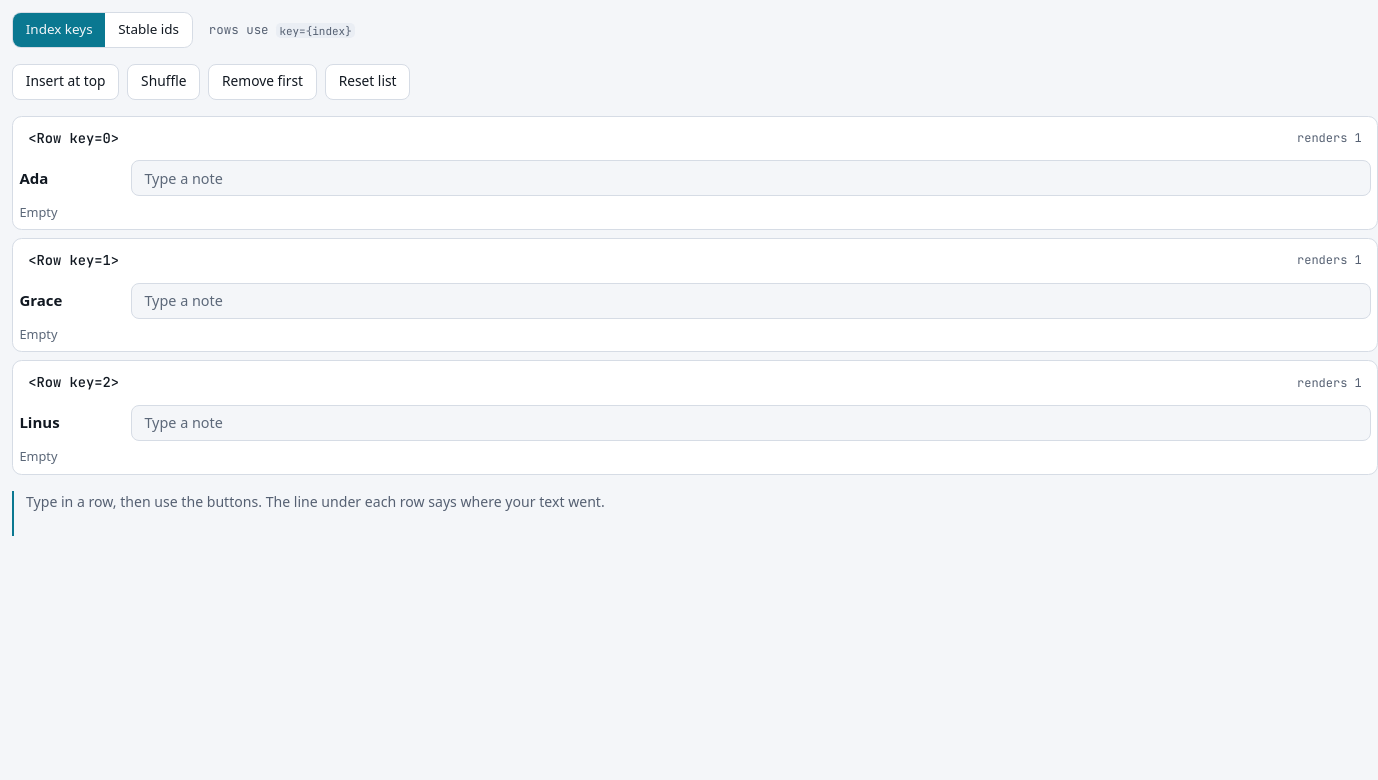
Test case: key-chaos lab › with index keys, text typed in the first row stays on top after an insert
Type "alpha" into the field with placeholder "Type a note" next to "Ada".
click(751, 178); type("alpha")  # box 131,160 -> 1371,196
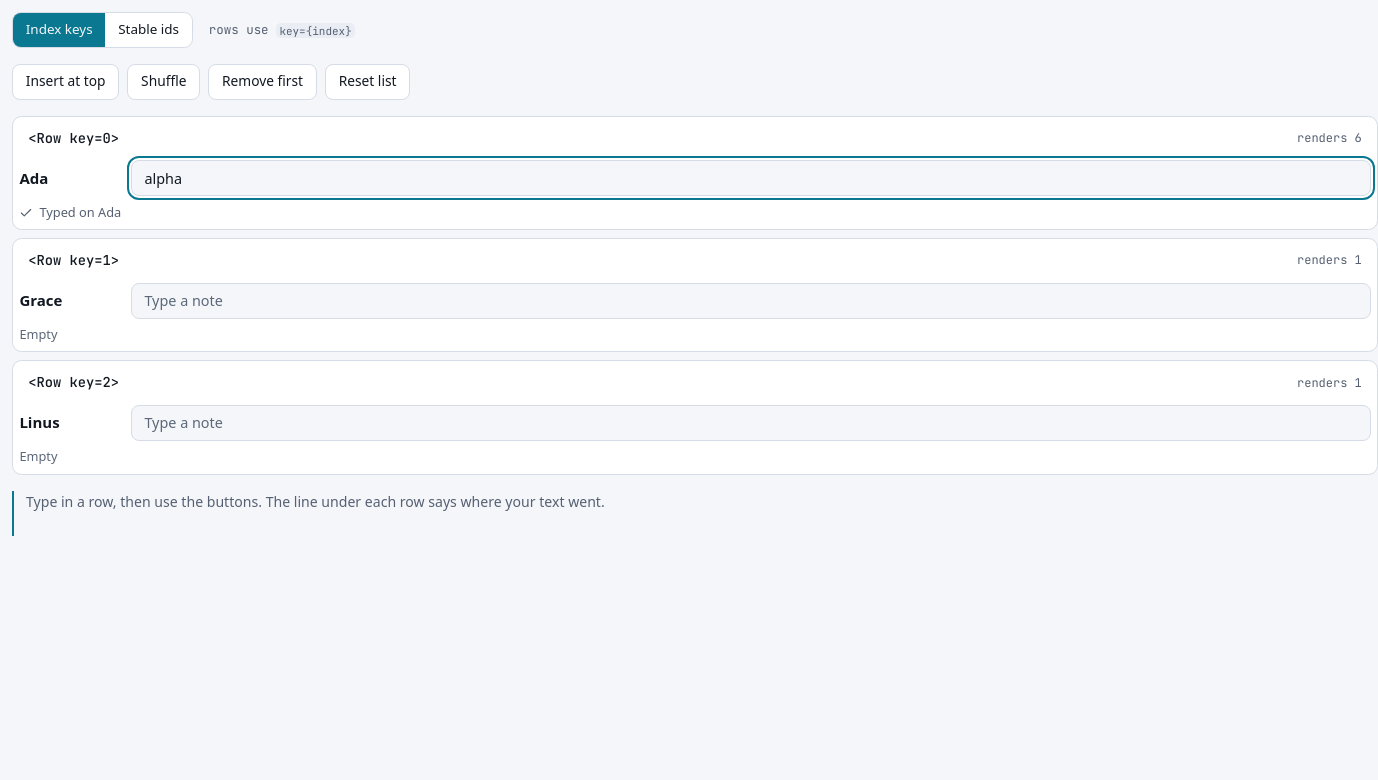
Click the button "Insert at top".
click(66, 82)  # box 12,64 -> 119,100
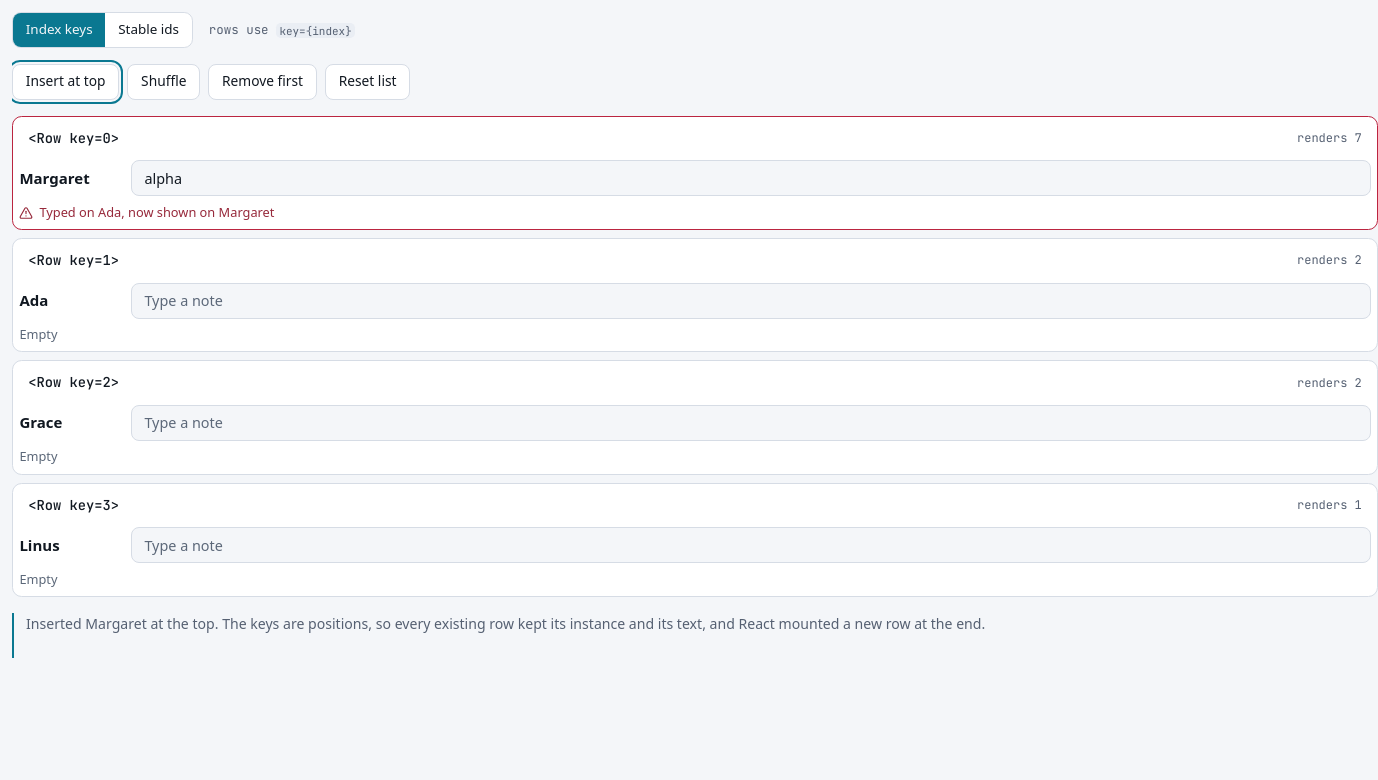
Check: the field with placeholder "Type a note" below "<Row key=1>" is empty, box 131,283 -> 1371,319
Check: the list item that starts with "<Row key=0>" shows "Typed on Ada, now shown on Margaret", box 39,203 -> 274,221
